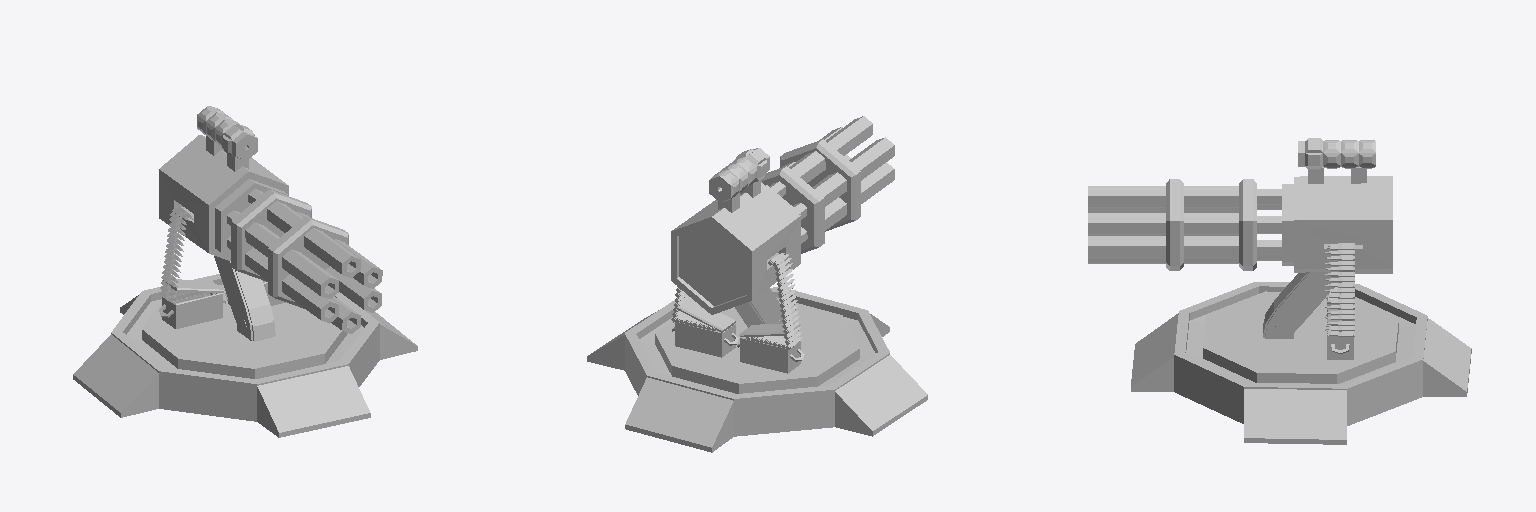
File: turret_188.obj
The picture shows the model from 3 angles: view 1: azimuth 30°, elevation 25°; view 2: azimuth 150°, elevation 25°; view 3: azimuth 270°, elevation 25°; orthographic projection.
Parts seen in each view (by area): view 1: AmmoBox1GatelingGun; view 2: AmmoBox1GatelingGun; view 3: AmmoBox1GatelingGun.
Part boxes in pixels (x1,y1,x2,y2): AmmoBox1GatelingGun: (73,106,417,437); AmmoBox1GatelingGun: (587,116,927,452); AmmoBox1GatelingGun: (1088,138,1471,444).
Size of the model in its own units: 3.25 by 2.46 by 3.66.